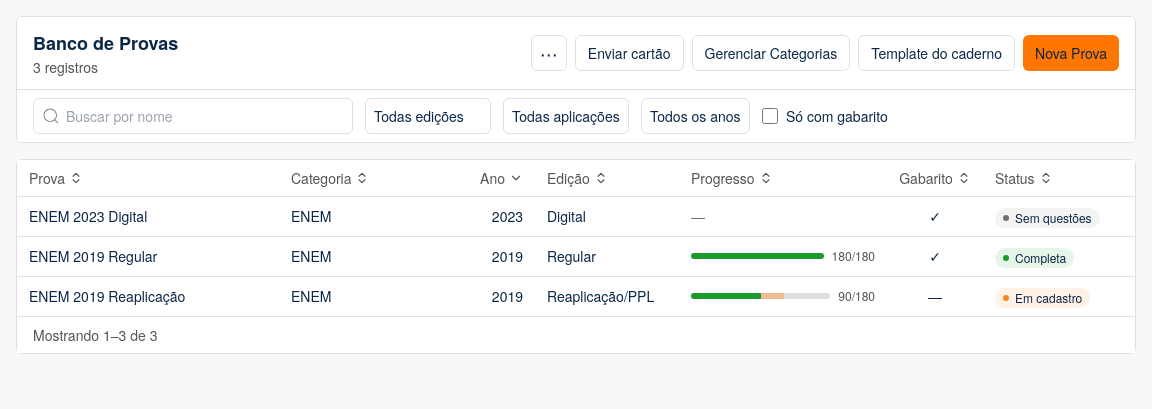
Scenario: filtros › vazio por filtro e vazio de verdade são mensagens diferentes
⚠️ Combinação sem resultado: a reaplicação é a única prova sem gabarito.
Select "Reaplicação/PPL" in the dropdown named "Todas edições" at (428, 116), box [365,98,491,134]
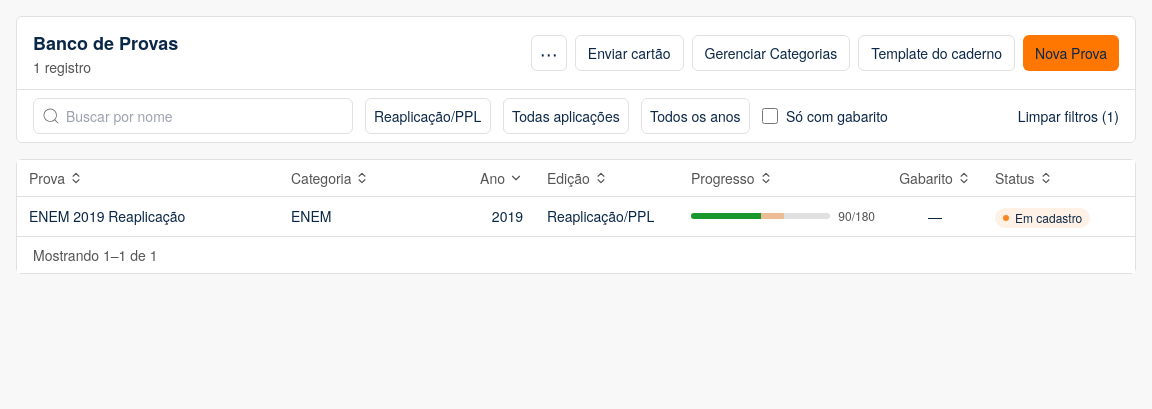
Click the checkbox labelled "Só com gabarito".
click(770, 116)  # box [762,108,778,124]
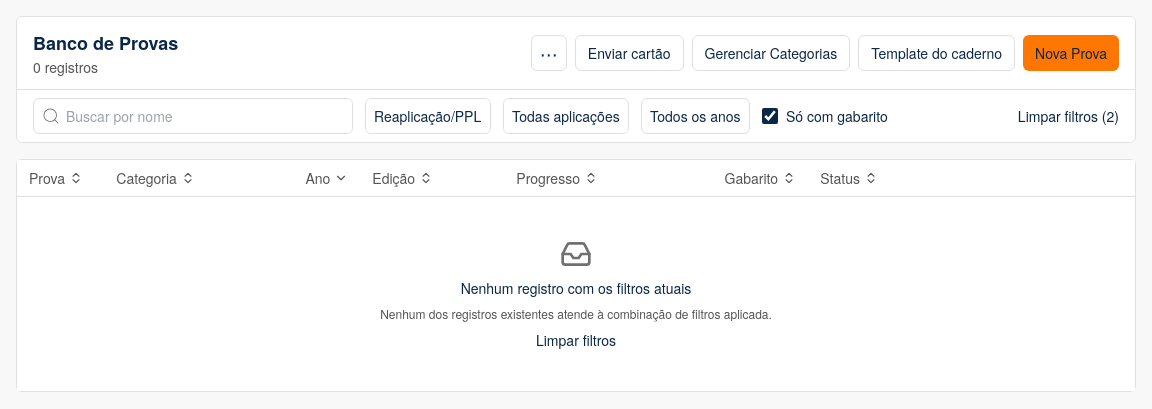
expect the text "Nenhum registro com os filtros atuais" is shown: met, box [461,278,691,298]
